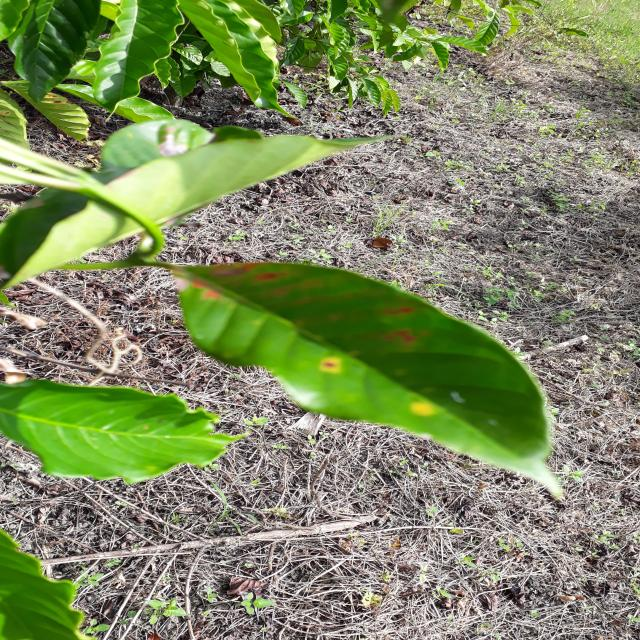Enfermedad-Roya: (165, 261, 565, 502)
